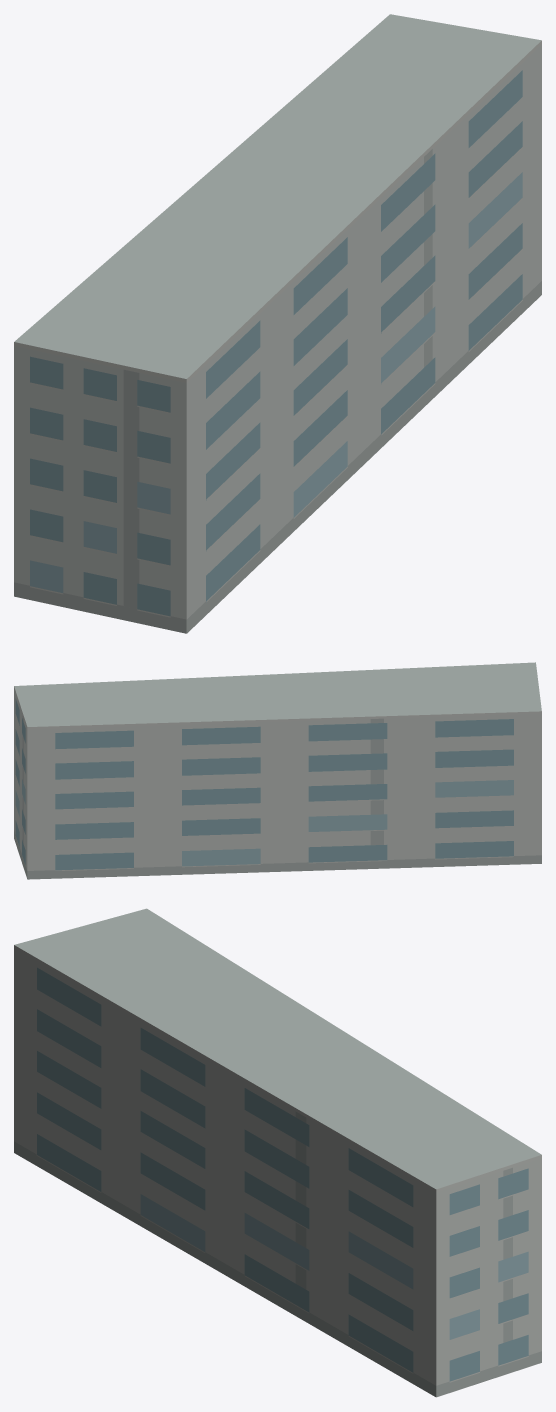
The model's file is residential-7d7aab18-1802-45f4-864a-448d60918994.glb.
3 renders of one model, top to bottom at view 1: azimuth 30°, elevation 25°; view 2: azimuth 150°, elevation 25°; view 3: azimuth 270°, elevation 25°, orthographic. The views are drawn at different scales.
Parts seen in each view (by area): view 1: residential-7d7aab18-1802-45f4-864a-448d60918994.tmp; view 2: residential-7d7aab18-1802-45f4-864a-448d60918994.tmp; view 3: residential-7d7aab18-1802-45f4-864a-448d60918994.tmp.
Boxes of the visible parts, x1=… form: residential-7d7aab18-1802-45f4-864a-448d60918994.tmp: x1=14, y1=14, x2=541, y2=633; residential-7d7aab18-1802-45f4-864a-448d60918994.tmp: x1=14, y1=662, x2=541, y2=879; residential-7d7aab18-1802-45f4-864a-448d60918994.tmp: x1=14, y1=908, x2=541, y2=1397.
Size of the model in its own units: 44.19 by 15.25 by 35.09.
